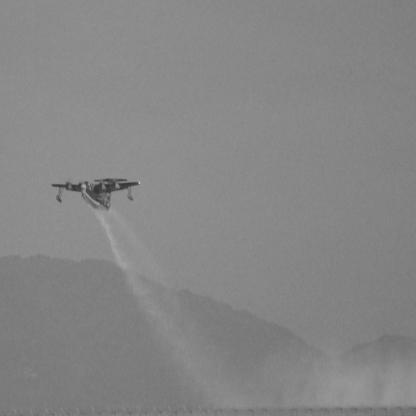US2: (52, 179, 141, 213)
